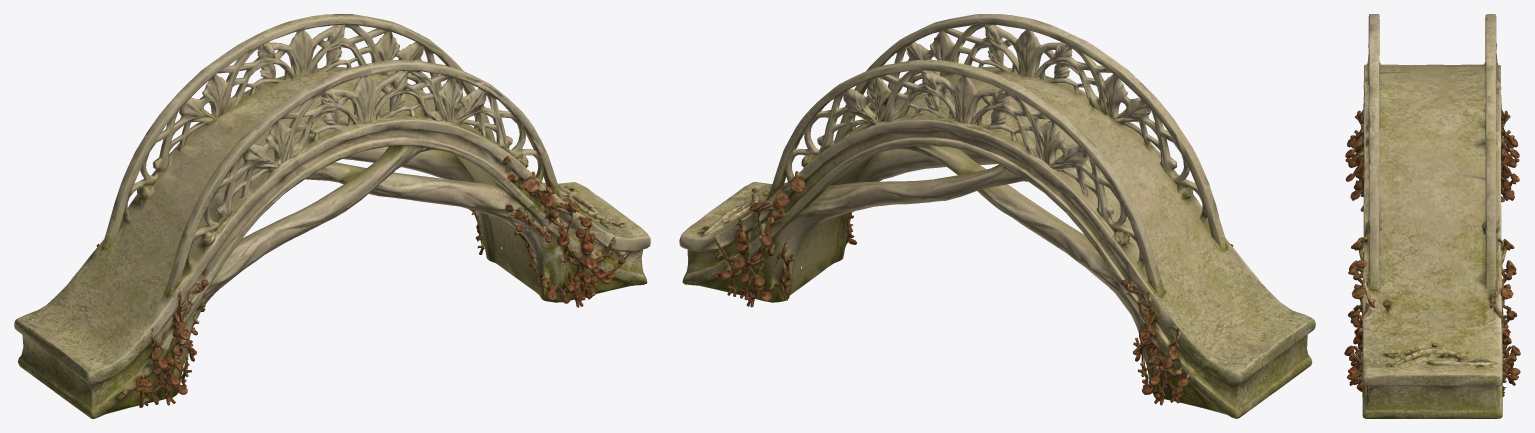
Rendered from gorge_bridge.glb.
3 renders of one model, left to right at view 1: azimuth 30°, elevation 25°; view 2: azimuth 150°, elevation 25°; view 3: azimuth 270°, elevation 25°, orthographic. The views are drawn at different scales.
Visible parts, largest first — view 1: tripo_node_c0dfe5ce-6900-4464-8015-076f5134b53e; view 2: tripo_node_c0dfe5ce-6900-4464-8015-076f5134b53e; view 3: tripo_node_c0dfe5ce-6900-4464-8015-076f5134b53e.
Part boxes in pixels (bbox=[...]): tripo_node_c0dfe5ce-6900-4464-8015-076f5134b53e: bbox=[14, 14, 650, 418]; tripo_node_c0dfe5ce-6900-4464-8015-076f5134b53e: bbox=[679, 14, 1315, 418]; tripo_node_c0dfe5ce-6900-4464-8015-076f5134b53e: bbox=[1344, 14, 1520, 418].
Size of the model in its own units: 0.979 by 0.4676 by 0.2862.
Materials: 1 (1 with a texture image).
